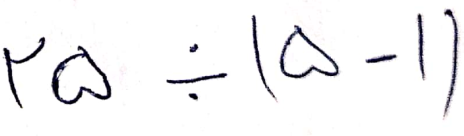character: (52, 44, 113, 104), (1, 35, 48, 111), (167, 43, 229, 100), (279, 23, 341, 79), (250, 14, 279, 104), (440, 7, 461, 119), (414, 13, 427, 83), (364, 52, 399, 67)
